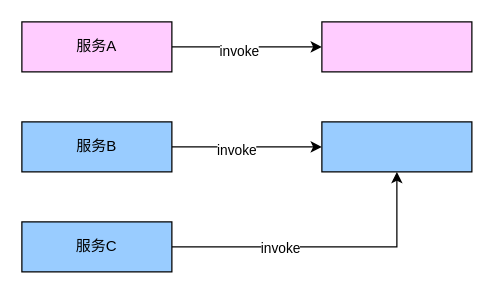
Image size: 494x294. Some labels were removed from this diagram. Here are the shapes that lost their labels. From the top down, the centre of each, then its label:
At [396,46]: "服务D（分组1）".
At [396,146]: "服务D（分组2）".
